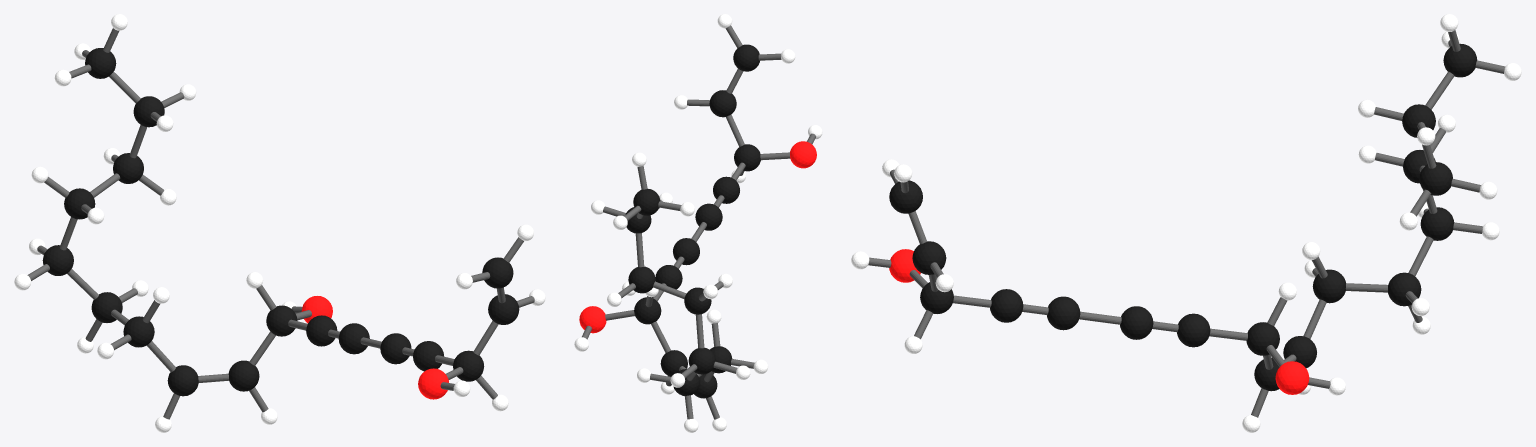
File: molecule.glb
The picture shows the model from 3 angles, left to right: view 1: azimuth 30°, elevation 25°; view 2: azimuth 150°, elevation 25°; view 3: azimuth 270°, elevation 25°; orthographic projection. The views are drawn at different scales.
Parts seen in each view (by area): view 1: geometry_10, geometry_11, geometry_3, geometry_0, geometry_7, geometry_16, geometry_5, geometry_6, geometry_1, geometry_18, geometry_8, geometry_12 (+7 smaller); view 2: geometry_3, geometry_0, geometry_1, geometry_5, geometry_9, geometry_4, geometry_16, geometry_6, geometry_18, geometry_2, geometry_14, geometry_8 (+7 smaller); view 3: geometry_9, geometry_4, geometry_6, geometry_7, geometry_5, geometry_14, geometry_16, geometry_18, geometry_12, geometry_8, geometry_1, geometry_0 (+5 smaller).
Boxes of the visible parts, x1,y1,x2,y2 form: geometry_10: (228, 360, 259, 391); geometry_11: (167, 365, 198, 396); geometry_3: (418, 368, 448, 399); geometry_0: (482, 257, 513, 288); geometry_7: (306, 315, 337, 346); geometry_16: (113, 153, 143, 183); geometry_5: (380, 333, 411, 364); geometry_6: (338, 323, 369, 354); geometry_1: (488, 294, 519, 324); geometry_18: (85, 48, 116, 78); geometry_8: (266, 305, 297, 336); geometry_12: (123, 316, 154, 347); geometry_3: (790, 141, 816, 168); geometry_0: (733, 44, 759, 71); geometry_1: (709, 90, 736, 117); geometry_5: (695, 203, 722, 230); geometry_9: (579, 306, 606, 333); geometry_4: (713, 176, 739, 203); geometry_16: (628, 266, 655, 293); geometry_6: (673, 238, 699, 265); geometry_18: (633, 189, 660, 215); geometry_2: (734, 144, 760, 171); geometry_14: (688, 347, 715, 374); geometry_8: (634, 297, 661, 324); geometry_9: (1275, 361, 1309, 394); geometry_4: (990, 289, 1023, 322); geometry_6: (1120, 306, 1153, 339); geometry_7: (1177, 313, 1210, 347); geometry_5: (1047, 296, 1080, 330); geometry_14: (1420, 207, 1454, 240); geometry_16: (1419, 162, 1452, 195); geometry_18: (1443, 43, 1477, 77); geometry_12: (1312, 269, 1345, 303); geometry_8: (1246, 322, 1279, 355); geometry_1: (912, 241, 946, 274); geometry_0: (889, 180, 922, 213).
Size of the model in its own units: 0.1473 by 0.1658 by 0.257.
